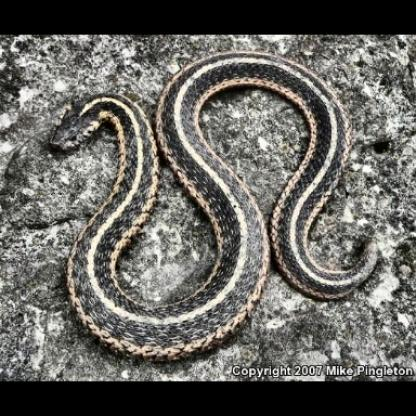Snake: (48, 47, 382, 365)
